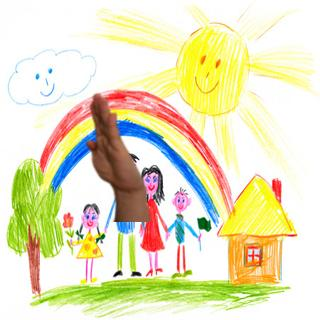RIGHT: (80, 89, 144, 191)
